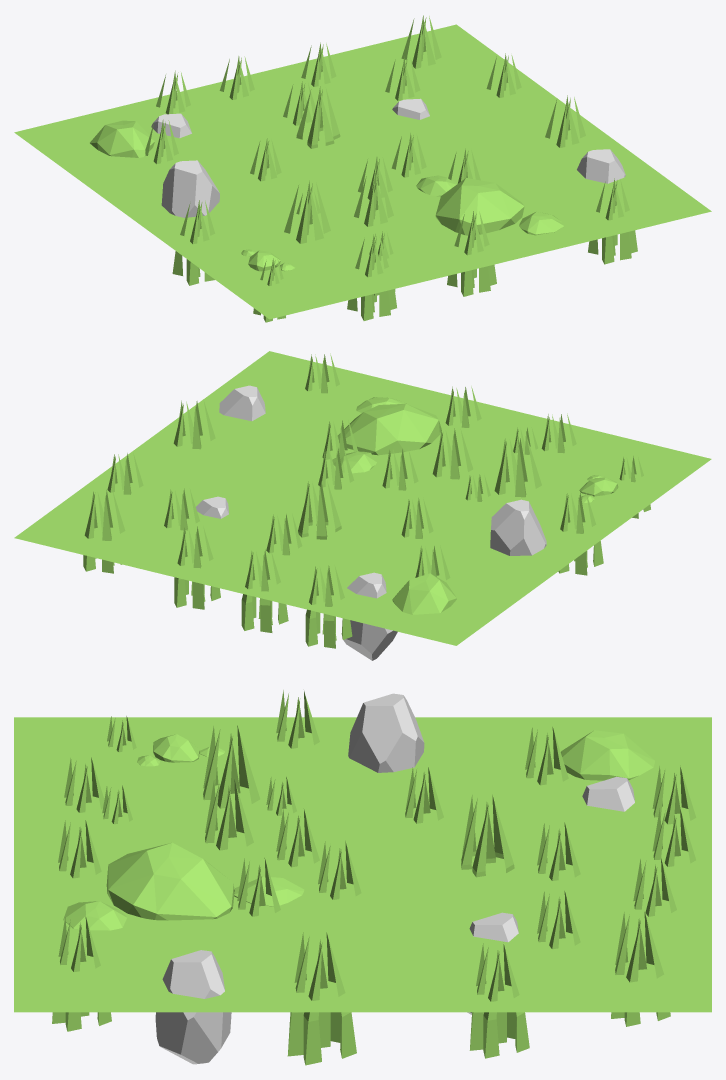
The model's file is grass-composition2.fbx.
3 renders of one model, top to bottom at view 1: azimuth 30°, elevation 25°; view 2: azimuth 150°, elevation 25°; view 3: azimuth 270°, elevation 25°, orthographic. The views are drawn at different scales.
Visible parts, largest first — view 1: Plane, Bush1.2, Stone1.1, Bush1.1, Grass.001, Grass.013, Grass.002, Stone1.002, Grass.016, Grass, Grass.011, Grass.003 (+15 smaller); view 2: Plane, Bush1.2, Stone1.1, Stone1.004, Bush1.1, Grass.010, Grass.009, Grass.020, Grass.004, Grass.016, Grass, Stone1.002 (+16 smaller); view 3: Plane, Bush1.2, Stone1.002, Stone1.1, Grass.022, Bush1.1, Grass.008, Grass, Grass.016, Grass.004, Grass.001, Grass.003 (+16 smaller).
Part boxes in pixels (<box>): Plane: <box>14,24,711,319</box>; Bush1.2: <box>416,175,564,235</box>; Stone1.1: <box>161,160,219,217</box>; Bush1.1: <box>90,120,154,157</box>; Grass.001: <box>588,178,637,264</box>; Grass.013: <box>447,211,496,296</box>; Grass.002: <box>347,234,396,320</box>; Stone1.002: <box>577,149,625,183</box>; Grass.016: <box>284,180,330,243</box>; Grass: <box>296,86,340,148</box>; Grass.011: <box>172,200,215,285</box>; Grass.003: <box>354,173,393,226</box>; Plane: <box>14,351,711,645</box>; Bush1.2: <box>332,397,441,473</box>; Stone1.1: <box>490,499,546,555</box>; Stone1.004: <box>342,572,397,660</box>; Bush1.1: <box>392,573,456,614</box>; Grass.010: <box>241,549,288,632</box>; Grass.009: <box>305,565,352,648</box>; Grass.020: <box>174,526,220,609</box>; Grass.004: <box>83,489,125,573</box>; Grass.016: <box>494,438,541,497</box>; Grass: <box>298,480,341,539</box>; Stone1.002: <box>219,385,265,421</box>; Plane: <box>14,717,711,1012</box>; Bush1.2: <box>63,842,304,930</box>; Stone1.002: <box>155,950,231,1064</box>; Stone1.1: <box>348,693,424,772</box>; Grass.022: <box>287,932,356,1065</box>; Bush1.1: <box>561,730,654,780</box>; Grass.008: <box>469,943,529,1058</box>; Grass: <box>461,795,514,877</box>; Grass.016: <box>203,725,260,808</box>; Grass.004: <box>611,912,670,1026</box>; Grass.001: <box>52,916,111,1031</box>; Grass.003: <box>205,779,253,850</box>.
Size of the model in its own units: 200 by 52.69 by 200.
